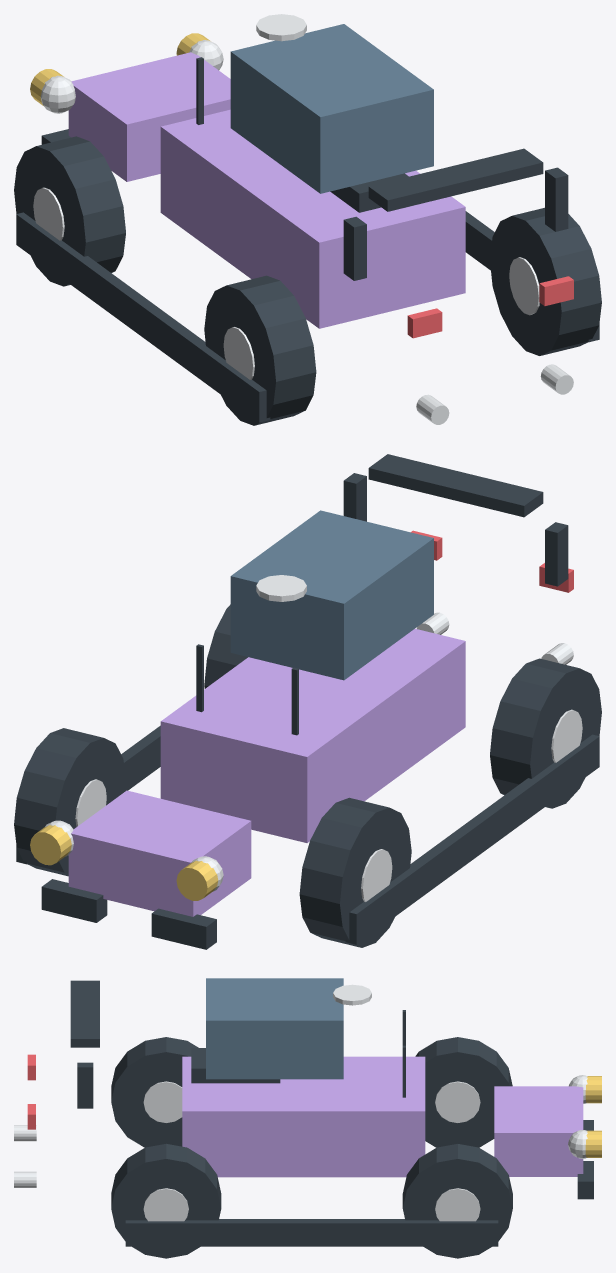
File: car.glb
3 views of the same model, one above another, from view 1: azimuth 30°, elevation 25°; view 2: azimuth 150°, elevation 25°; view 3: azimuth 270°, elevation 25° (orthographic). The views are drawn at different scales.
Visible parts, largest first — view 1: car; view 2: car; view 3: car.
Boxes of the visible parts, x1,y1,x2,y2 form: car: (14,14,601,425); car: (14,454,601,949); car: (14,978,601,1258).
Size of the model in its own units: 1.86 by 1.39 by 3.63.
